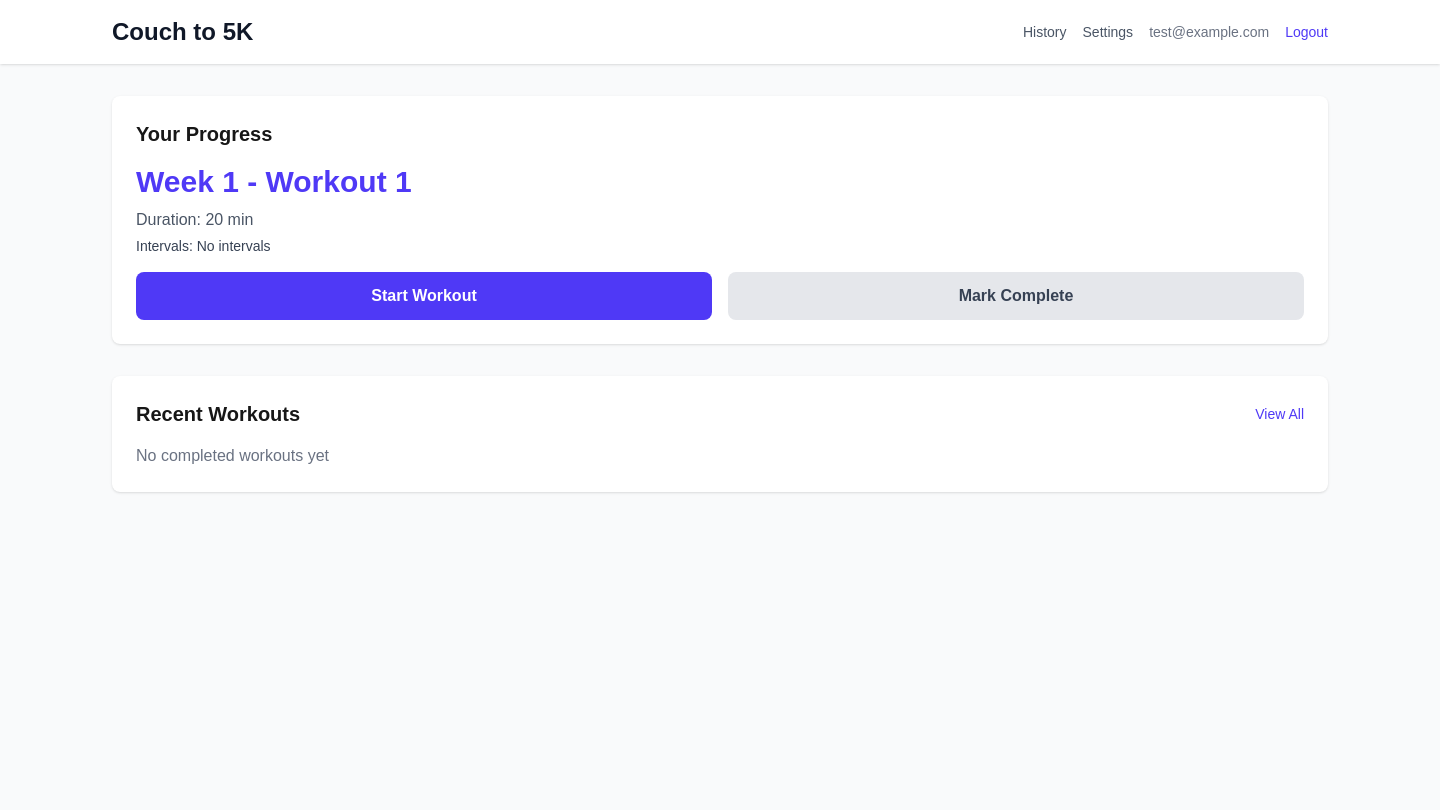
Test case: DashboardPage › should close dialog when Cancel is clicked
The image size is (1440, 810).
// Open dialog
Click the button "Mark Complete": (1016, 296) [728,272,1304,320]
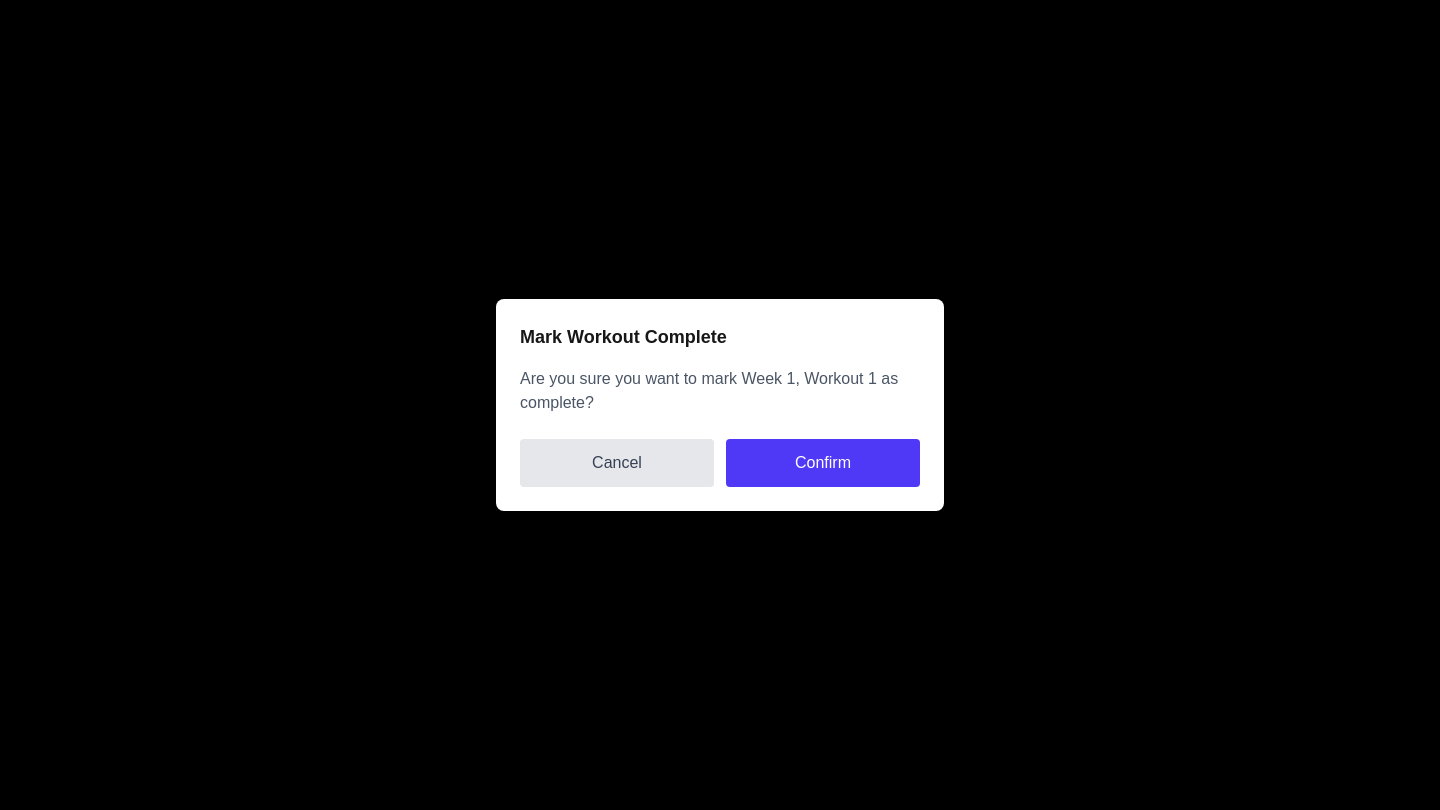
Expected: the heading "Mark Workout Complete" is shown, [520,327,727,347]
// Click Cancel
Click the button "Cancel": (617, 463) [520,439,714,487]
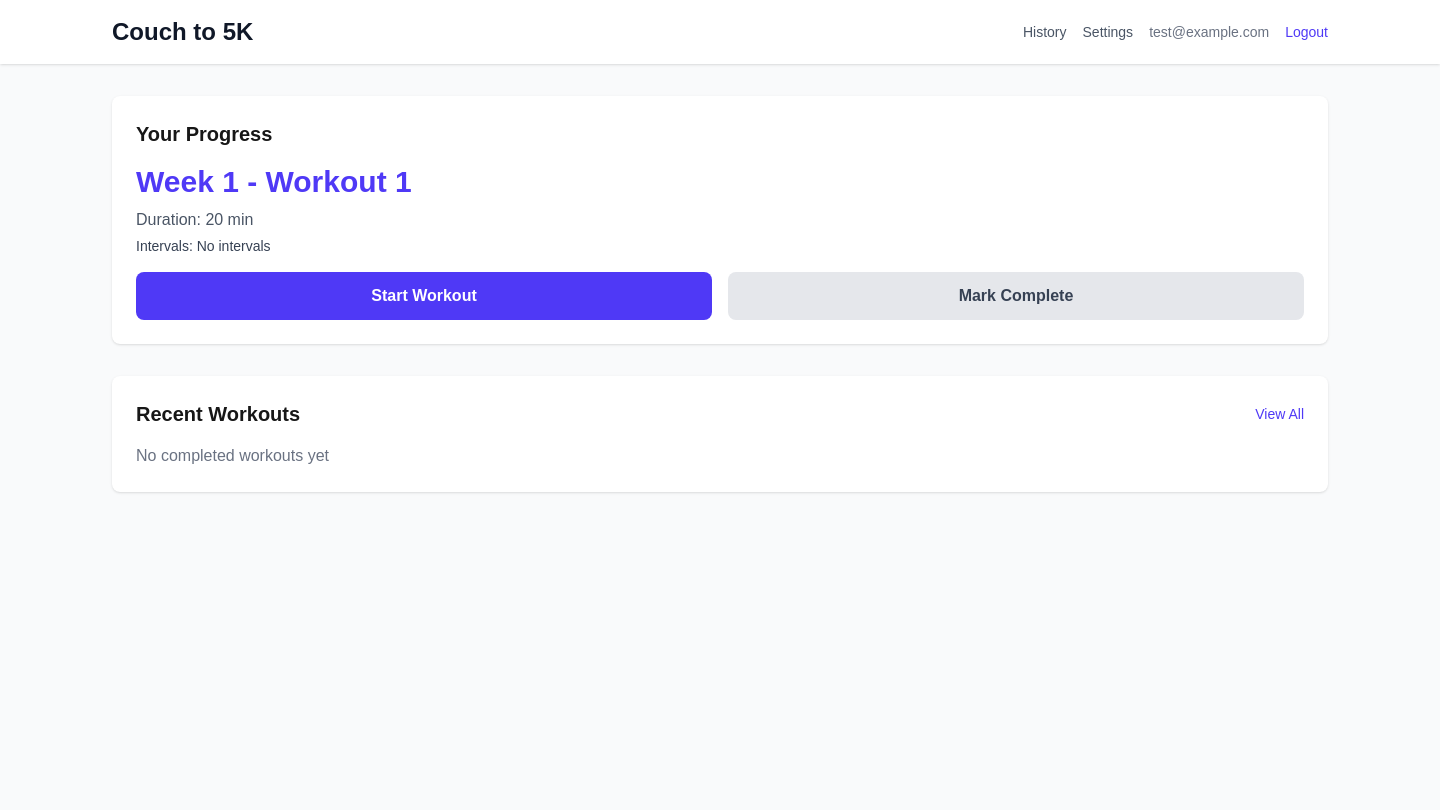
Expected: the heading "Mark Workout Complete" is gone
